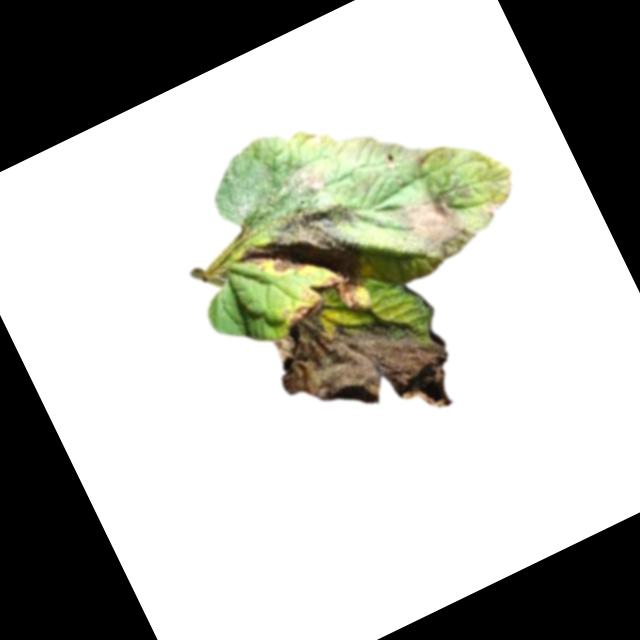Late_blight: (253, 253, 468, 467), (218, 152, 381, 316), (390, 185, 479, 272), (279, 285, 324, 325), (476, 194, 507, 226), (307, 130, 327, 151)
